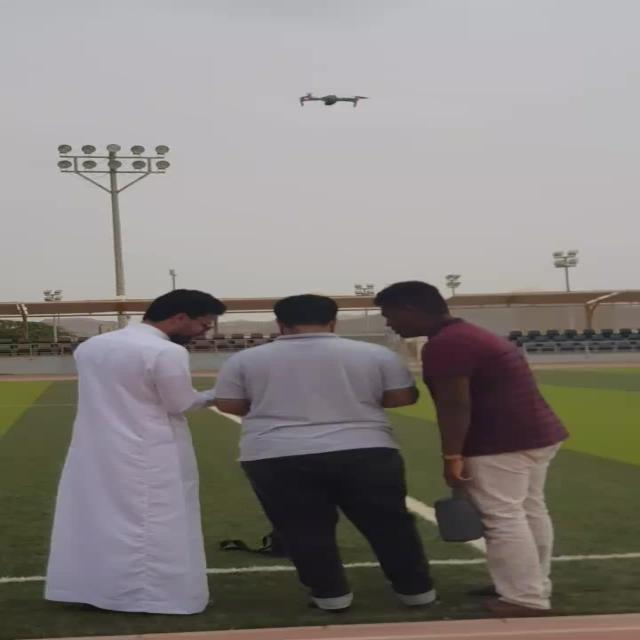drone: (286, 84, 374, 116)
